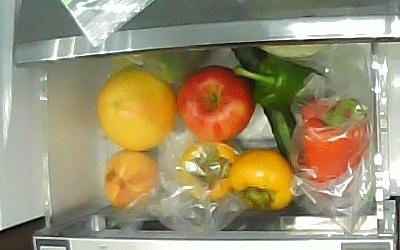apple: (176, 65, 255, 144)
cucumber: (232, 47, 302, 174)
grapefruit: (95, 67, 176, 153)
paprika: (232, 57, 335, 112)
paprika_vinyl: (299, 97, 371, 184)
peach: (103, 149, 161, 211)
persimmon: (229, 150, 297, 211)
persimmon_vinyl: (177, 141, 240, 202)
